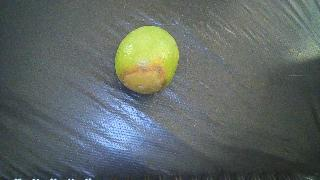DESECHO: (115, 26, 179, 94)
